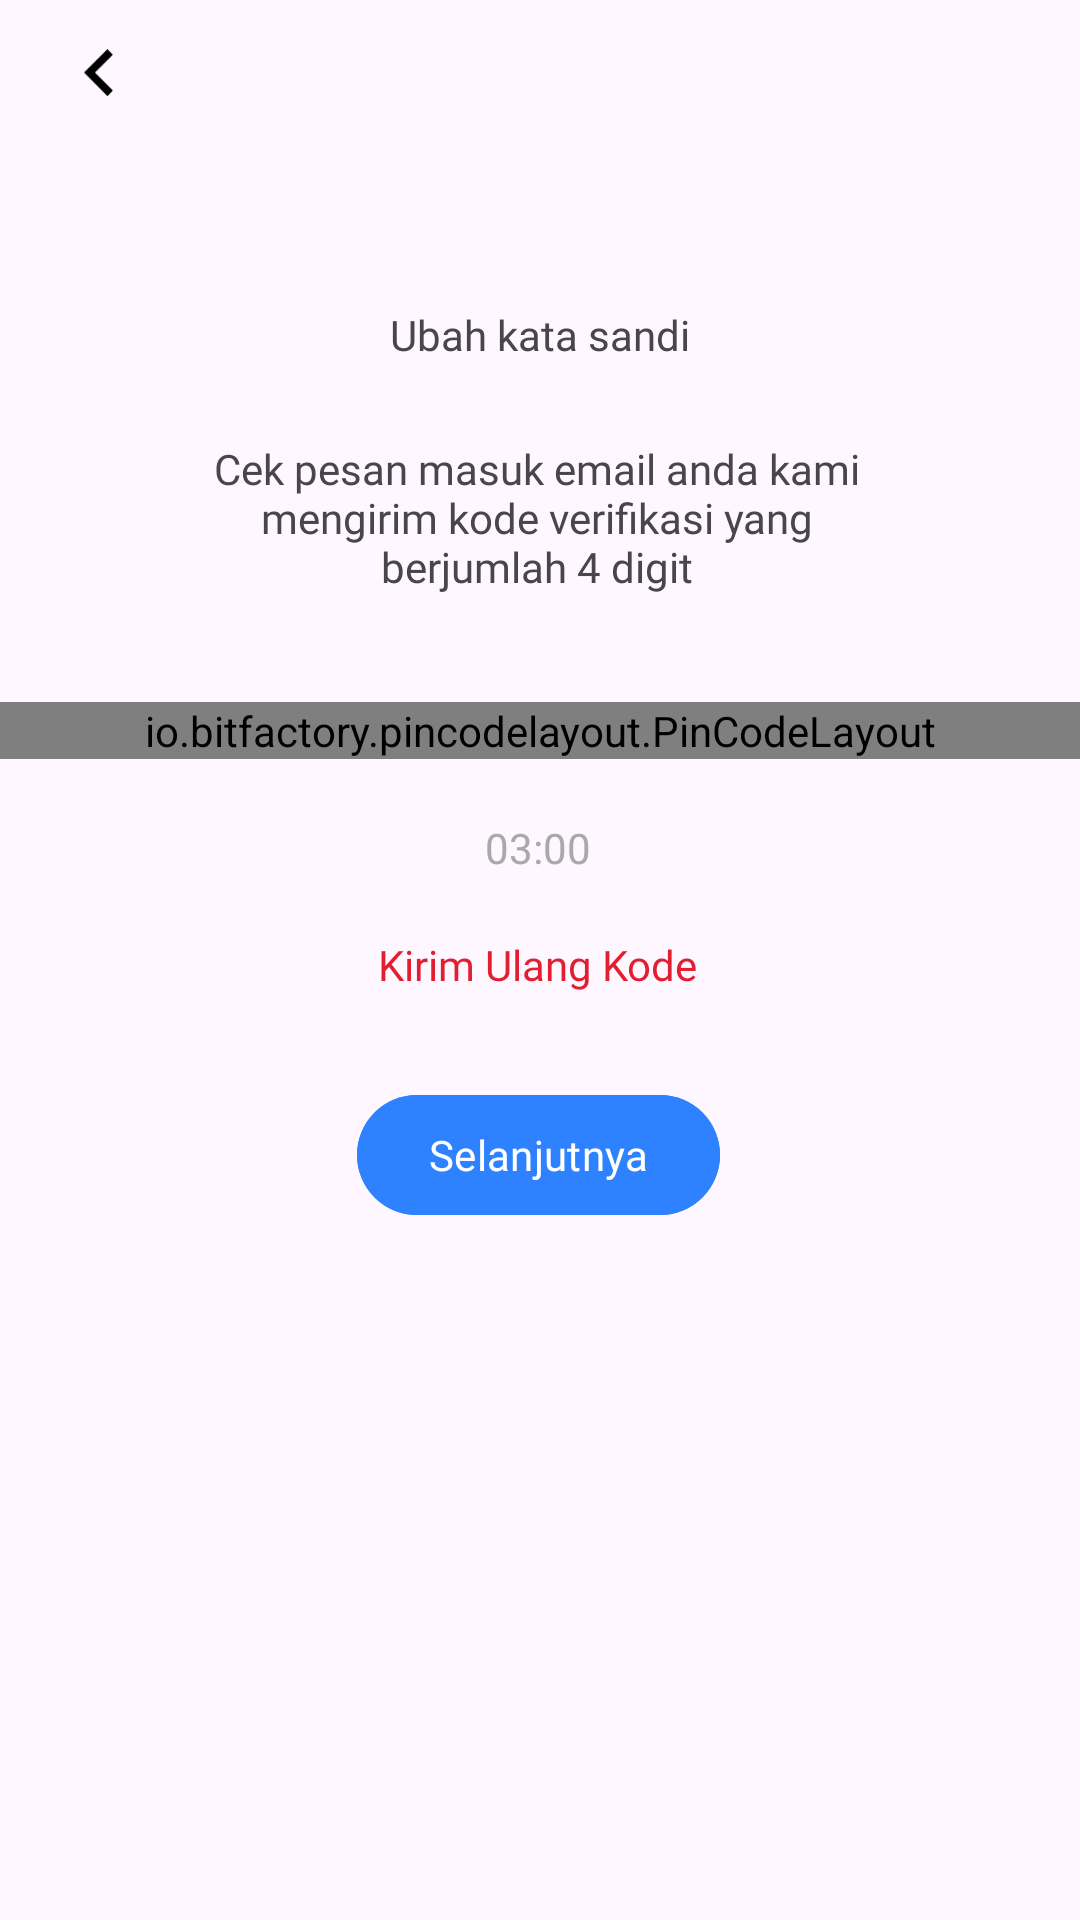

Icon click points for this 1080px×1920px phone screenshot, format (x=x, y=y):
back hitam: (x=98, y=72)
